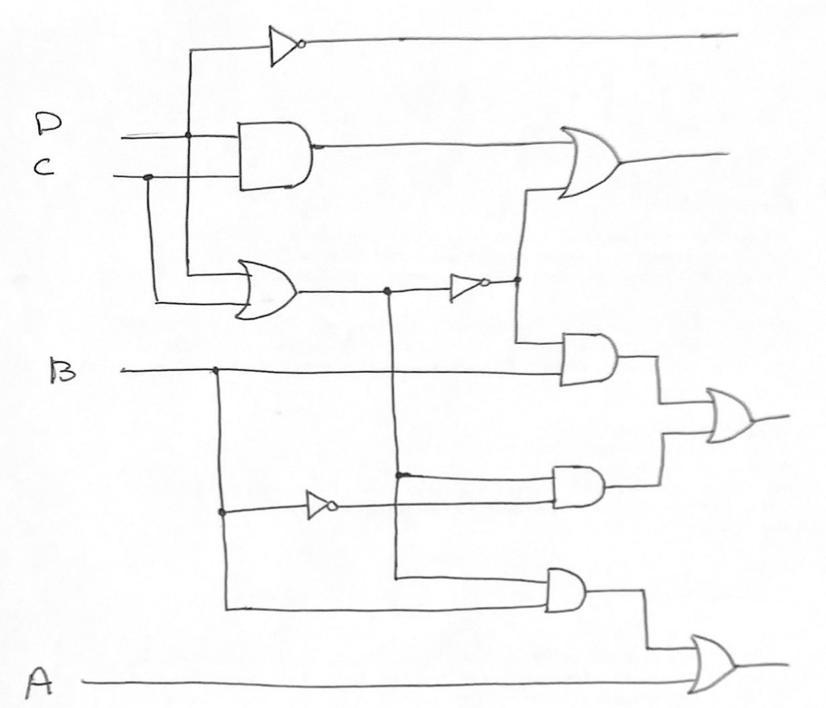AND: (221, 113, 330, 208), (549, 321, 639, 394), (546, 456, 622, 526), (531, 551, 591, 629)
NOT: (259, 21, 321, 72), (294, 483, 351, 533), (437, 263, 497, 306)
OR: (547, 117, 637, 214), (224, 250, 316, 329), (691, 374, 766, 467), (676, 621, 750, 703)
